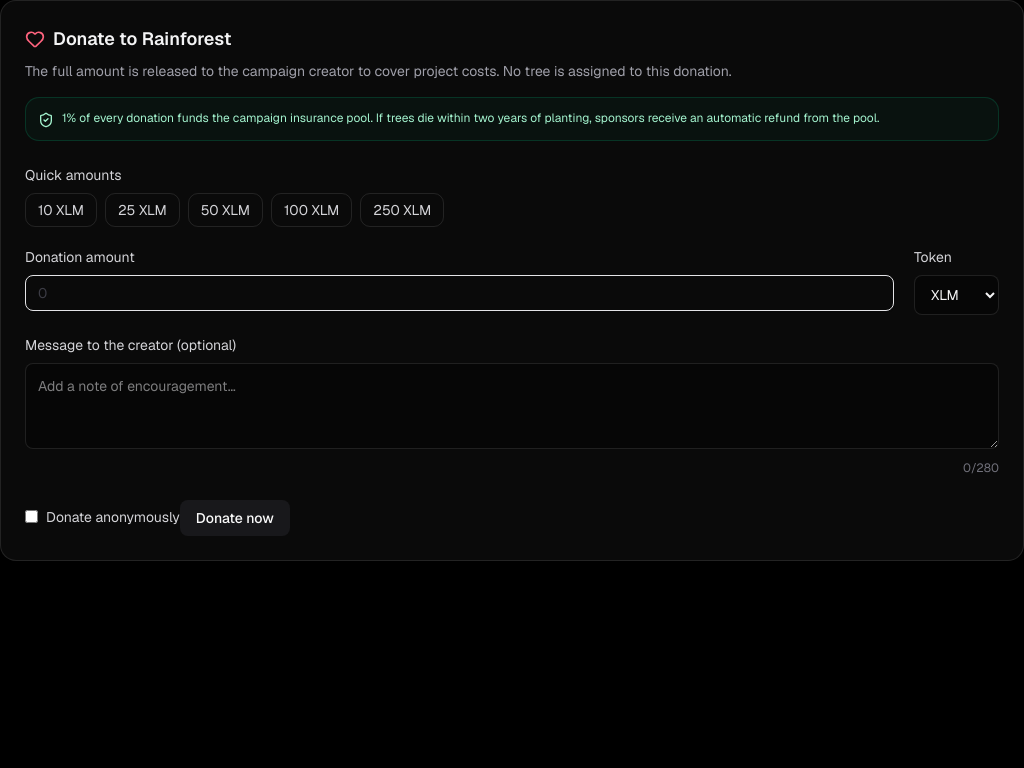
Test: CampaignDonationPanel (#1001) › records a donation and shows the receipt
This screenshot has width=1024, height=768.
Type "25" into the field with test id "donation-amount" at (460, 293), box 25,275 -> 894,311
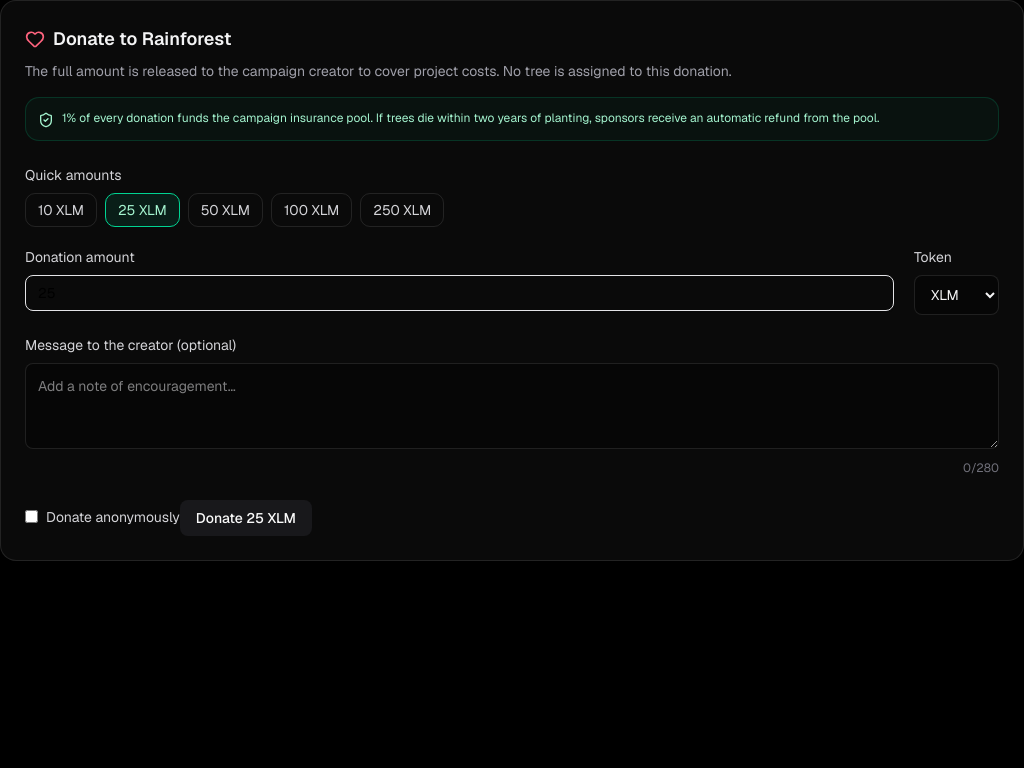
Type "Great work" into the text box with test id "donation-message" at (512, 406), box 25,363 -> 999,449
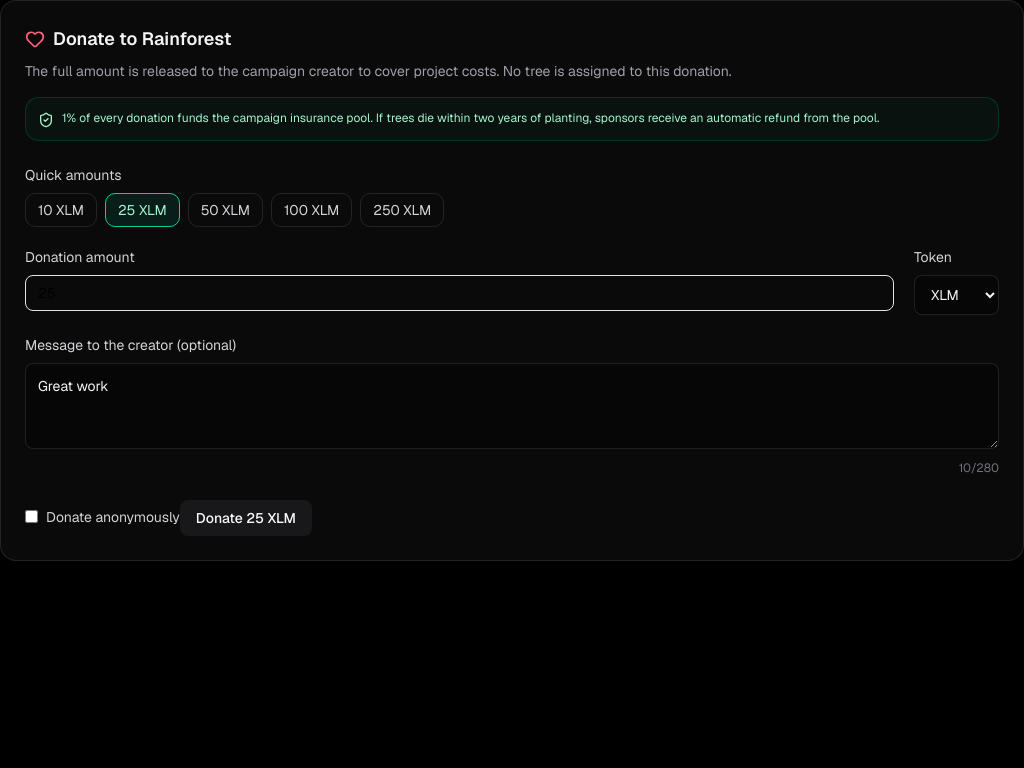
Click the button with test id "donation-submit" at (246, 518), box 180,500 -> 312,536
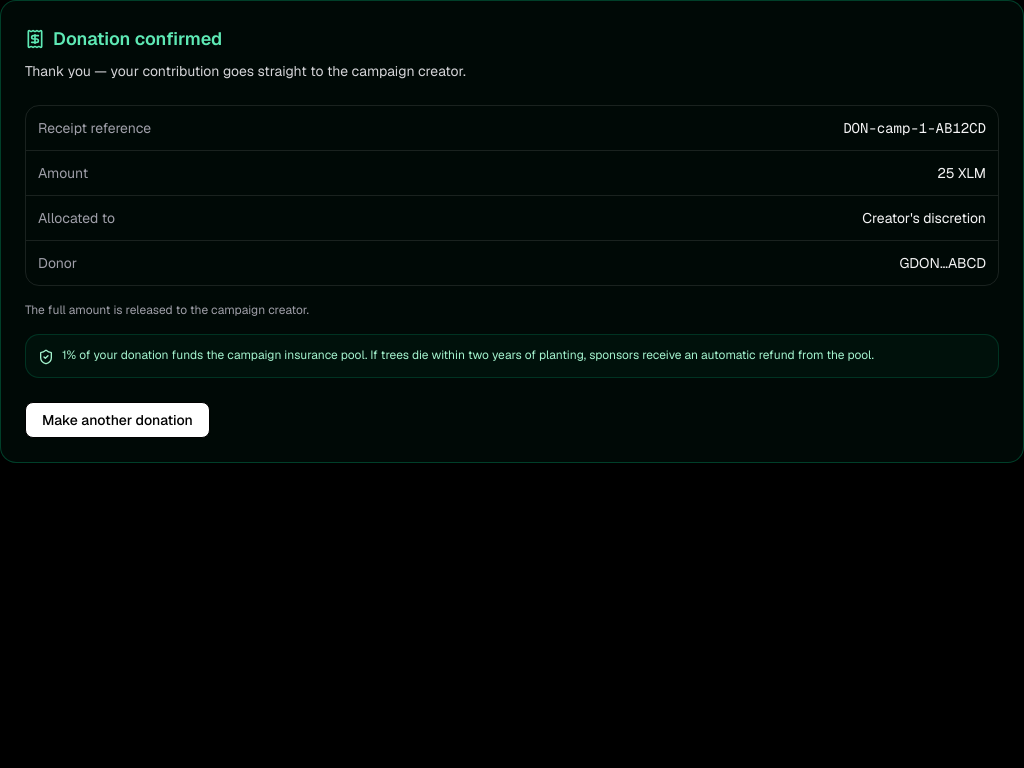
Now the element with test id "donation-receipt" is shown
Now the text with test id "donation-reference" reads "DON-camp-1-AB12CD", box 843,119 -> 986,137
